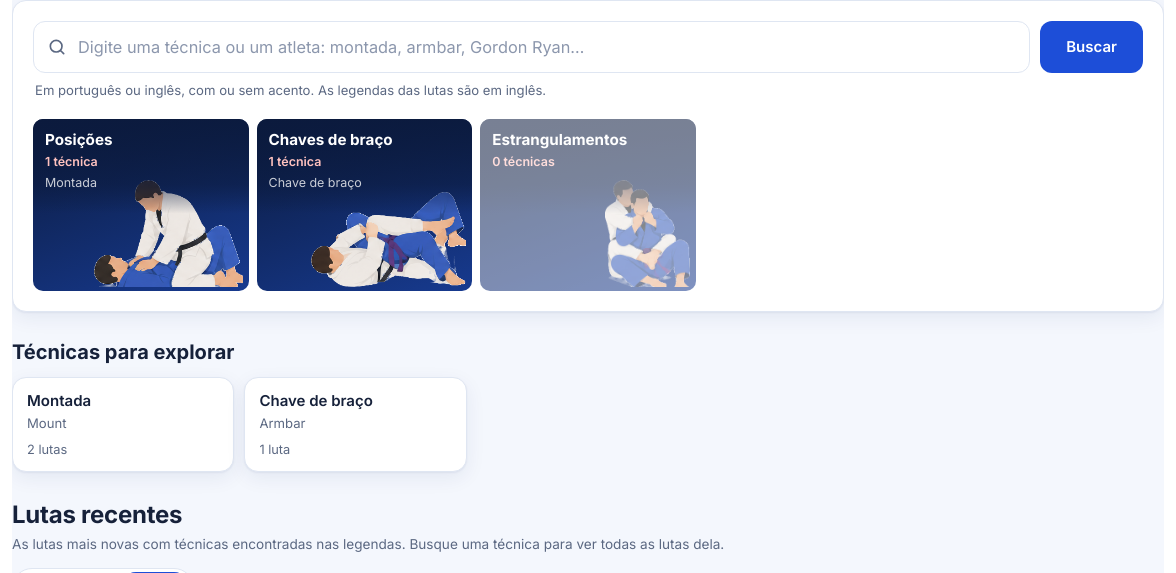
VideoSearchComponent › browses techniques with videos by category
This screenshot has width=1176, height=573.
Click the button with class "category" that starts with "Chaves de braço" at (364, 205), box [257, 119, 472, 291]
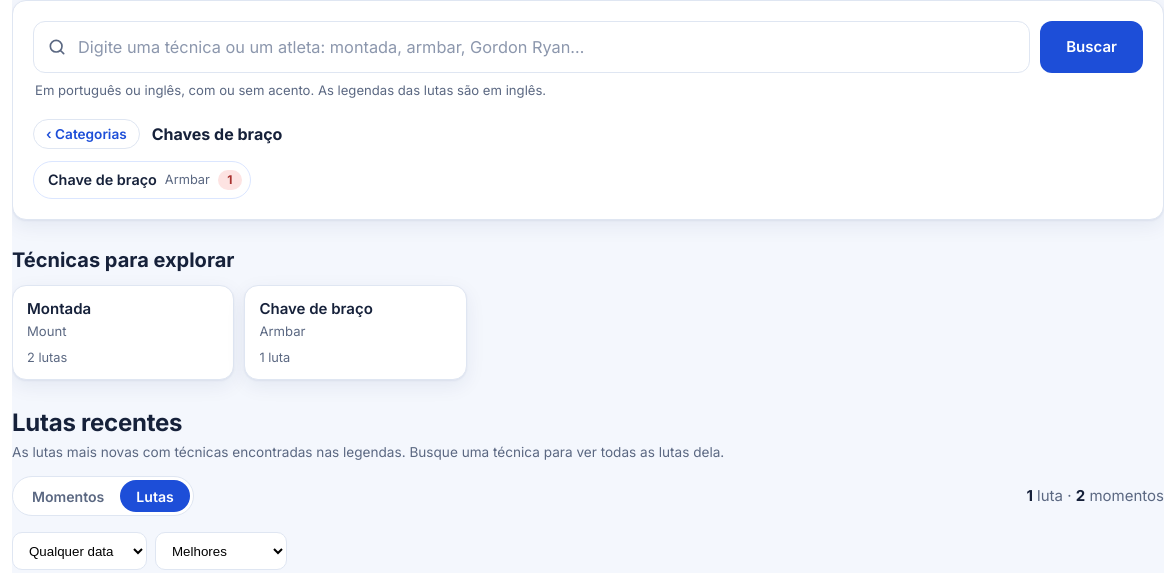
Click the button with class "back" at (86, 134), box [33, 119, 140, 149]
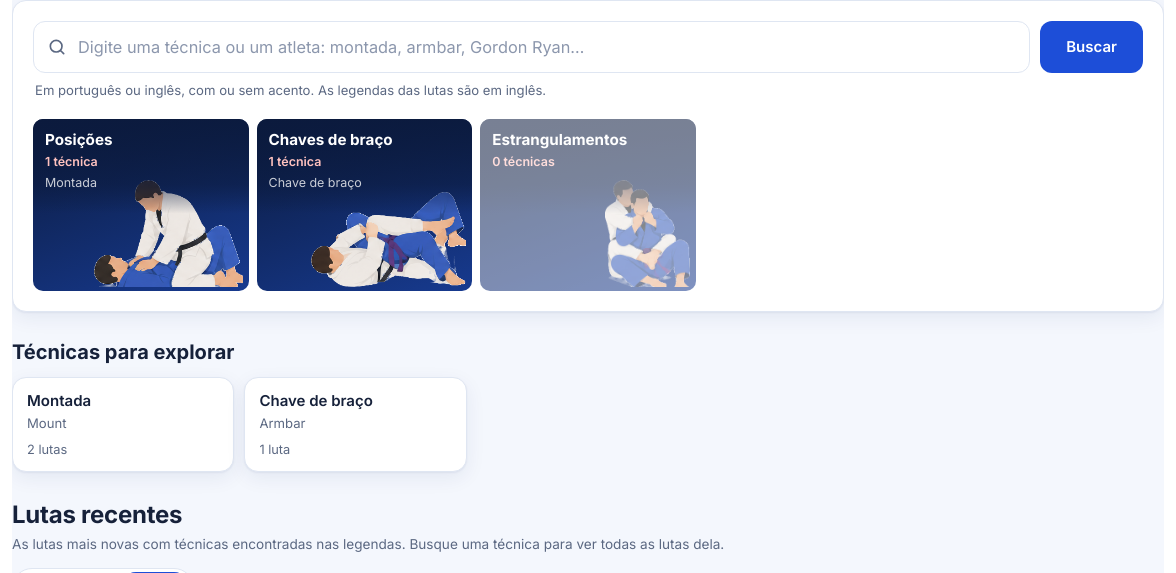
Click the button with class "category" showing "Estrangulamentos 0 técnicas" at (588, 205), box [480, 119, 696, 291]
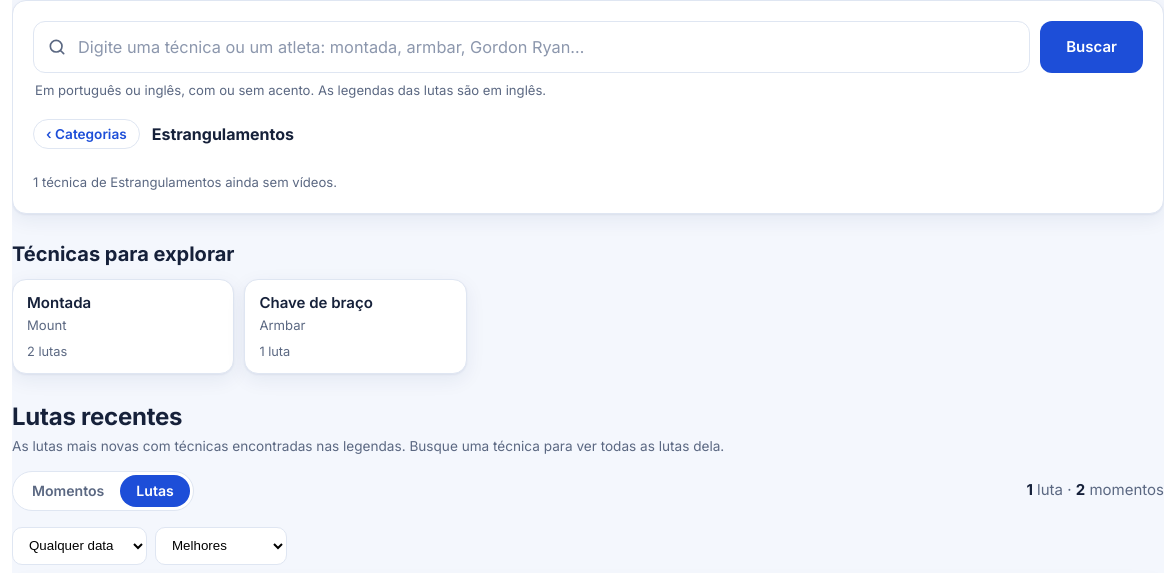
Check: the text with class "missing" reads "1 técnica de Estrangulamentos ainda sem vídeos.", box [33, 174, 337, 190]
